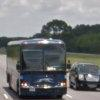Bus: (4, 38, 73, 99)
